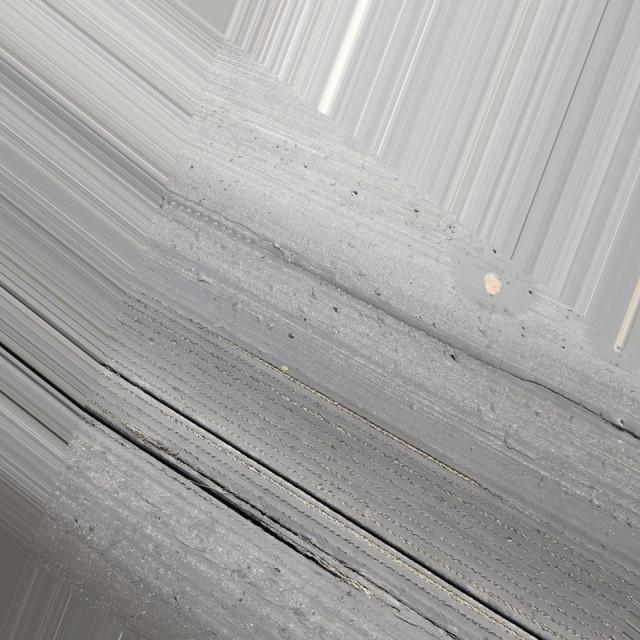Tear: (120, 368, 558, 640), (178, 198, 638, 450), (89, 405, 462, 640)
